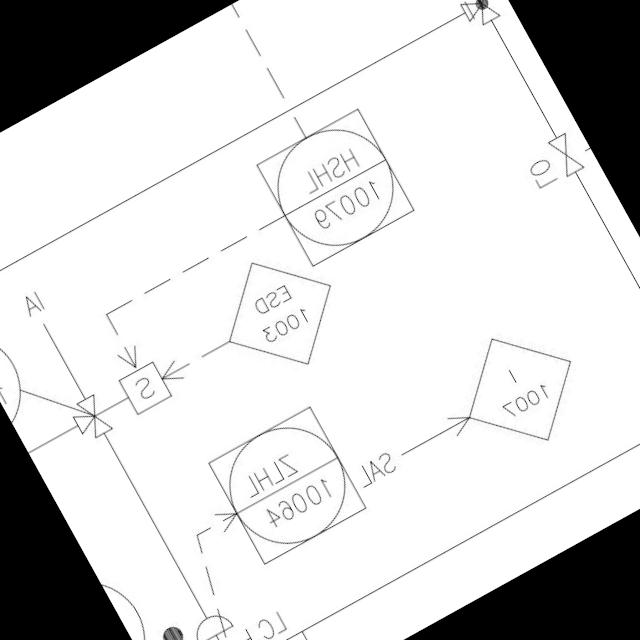3W: (58, 385, 119, 455)
FC: (181, 598, 260, 640)
GV: (536, 124, 590, 185)
RPV: (419, 0, 508, 38)
SV: (71, 352, 181, 444)
